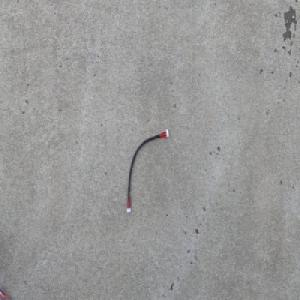Wire: (125, 127, 169, 214)
